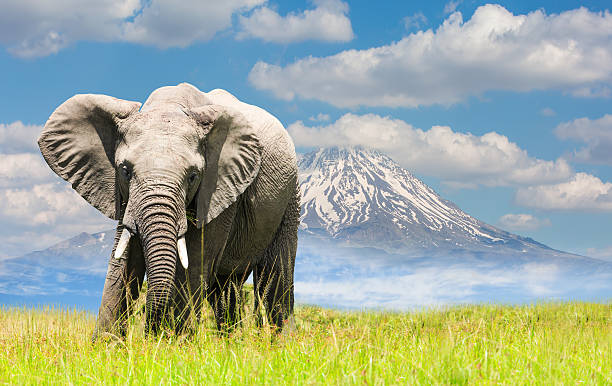africanelephant: (94, 100, 221, 273)
